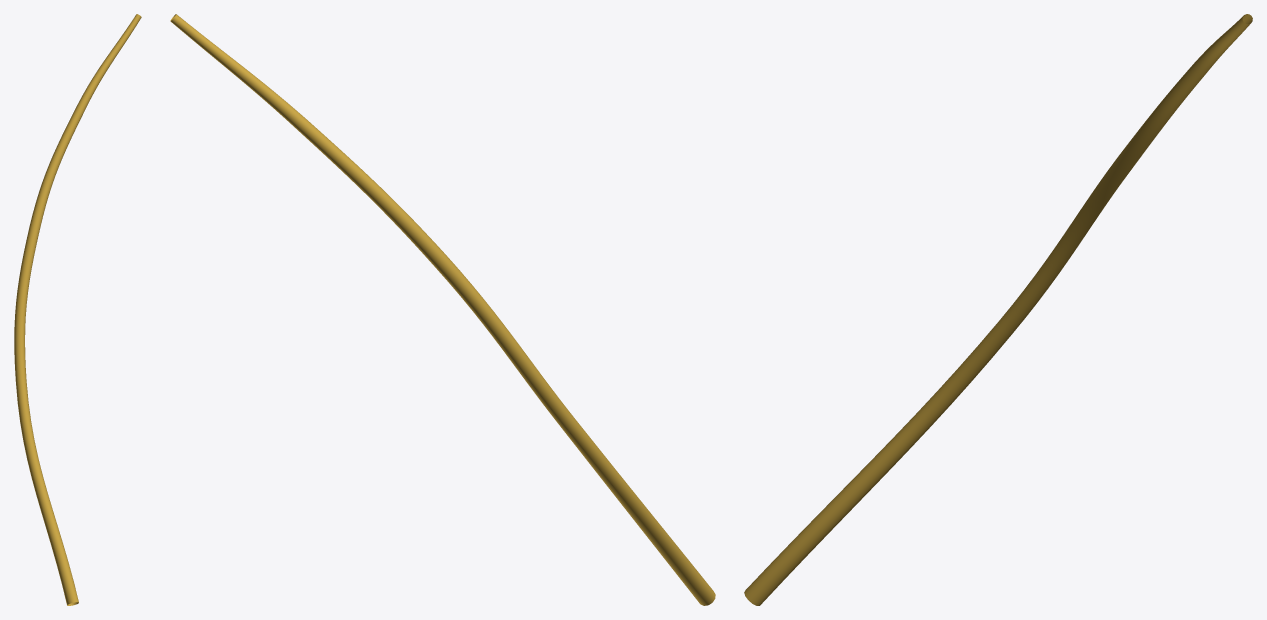
3 renders of one model, left to right at view 1: azimuth 30°, elevation 25°; view 2: azimuth 150°, elevation 25°; view 3: azimuth 270°, elevation 25°, orthographic. The views are drawn at different scales.
Parts seen in each view (by area): view 1: 右侧肩胛下神经上支; view 2: 右侧肩胛下神经上支; view 3: 右侧肩胛下神经上支.
Boxes of the visible parts, left/top/right/bottom form: 右侧肩胛下神经上支: left=14, top=14, right=141, bottom=605; 右侧肩胛下神经上支: left=170, top=14, right=715, bottom=605; 右侧肩胛下神经上支: left=744, top=14, right=1252, bottom=605.
Size of the model in its own units: 0.0474 by 0.0925 by 0.0557.
